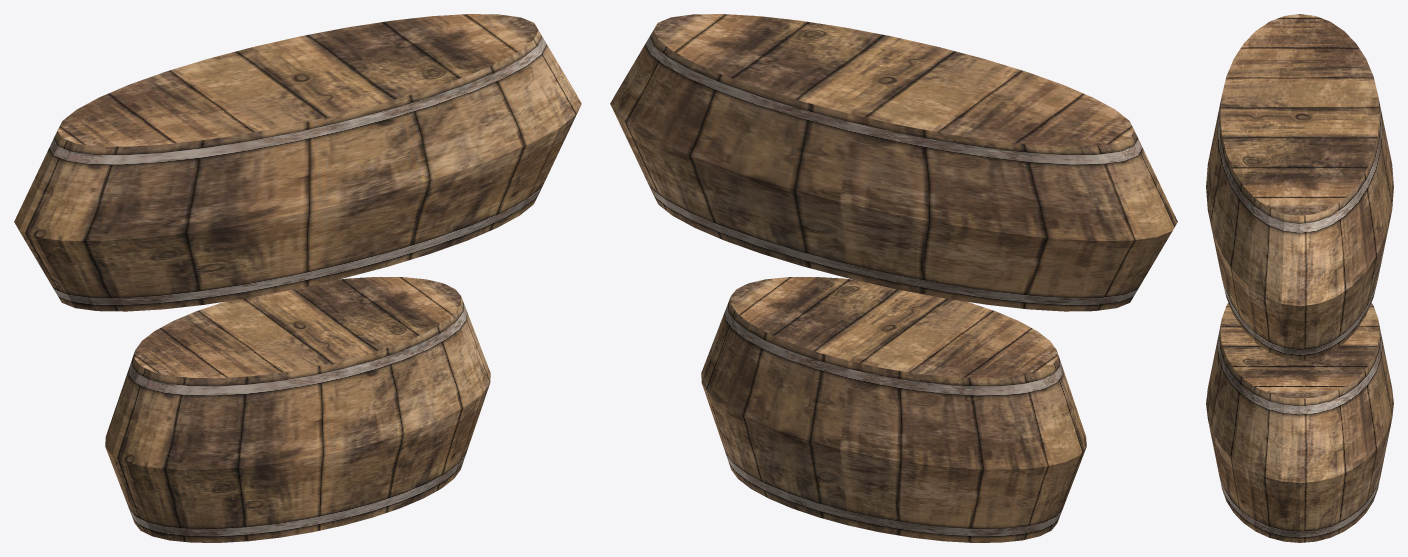
File: Double_Barrel.fbx
3 views of the same model, side by side, from view 1: azimuth 30°, elevation 25°; view 2: azimuth 150°, elevation 25°; view 3: azimuth 270°, elevation 25° (orthographic). The views are drawn at different scales.
Visible parts, largest first — view 1: Barrel.001, Barrel; view 2: Barrel.001, Barrel; view 3: Barrel.001, Barrel.
Boxes of the visible parts, box(x1,y1,x2,y2) form: Barrel.001: box(14, 14, 581, 311); Barrel: box(105, 277, 490, 542); Barrel.001: box(610, 14, 1177, 311); Barrel: box(701, 277, 1086, 542); Barrel.001: box(1206, 14, 1393, 359); Barrel: box(1206, 303, 1393, 542).
Size of the model in its own units: 708 by 500 by 236.
Materials: 2 (2 with a texture image).
